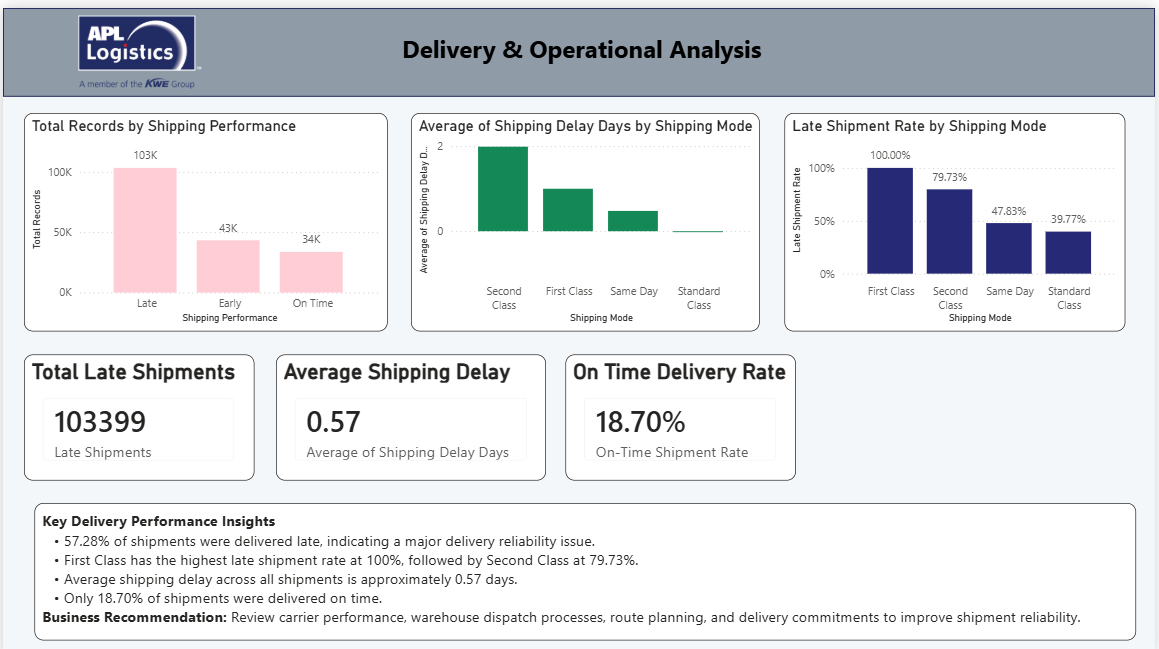

The dashboard page shown, as its layout file describes it:
{"tool":"powerbi","page":{"name":"Delievery & Operational Analysis","canvas":[1280,720],"ordinal":3},"visuals":[{"type":"shape","box":[0,0,1280,98.6],"z":0},{"type":"clusteredColumnChart","fields":{"Y":["SupplyChain.Total Records"],"Category":["SupplyChain.Shipping Performance"]},"box":[22.9,117.1,404.3,242.9],"z":1000},{"type":"clusteredColumnChart","fields":{"Category":["SupplyChain.Shipping Mode"],"Y":["Avg(SupplyChain.Shipping Delay Days)"]},"box":[452.9,117.1,387.1,242.9],"z":2000},{"type":"clusteredColumnChart","fields":{"Y":["Customer Profitability.Late Shipment Rate"],"Category":["SupplyChain.Shipping Mode"]},"box":[868.6,117.1,378.6,242.9],"z":3000},{"type":"cardVisual","title":"Total Late Shipments","fields":{"Data":["Customer Profitability.Late Shipments"]},"box":[22.9,385.7,255.7,140],"z":4000},{"type":"cardVisual","title":"Average Shipping Delay","fields":{"Data":["Avg(SupplyChain.Shipping Delay Days)"]},"box":[302.9,385.7,300,140],"z":5000},{"type":"cardVisual","title":"On Time Delivery Rate","fields":{"Data":["Customer Profitability.On-Time Shipment Rate"]},"box":[624.3,385.7,255.7,140],"z":6000},{"type":"textbox","box":[35.7,550,1224.3,152.9],"z":7000},{"type":"textbox","box":[401.4,21.4,491.4,55.7],"z":8000},{"type":"image","box":[64.3,8.6,174.3,81.4],"z":8001}]}

Visuals, with their boxes in screenshot pixels (x1, y1, x2, y2), scaled from the page's 1280x720 canvas onto the 1159x649 screenshot:
shape: l=0, t=0, r=1158, b=89
clusteredColumnChart - SupplyChain.Total Records x SupplyChain.Shipping Performance: l=21, t=106, r=387, b=324
clusteredColumnChart - SupplyChain.Shipping Mode x Avg(SupplyChain.Shipping Delay Days): l=410, t=106, r=761, b=324
clusteredColumnChart - Customer Profitability.Late Shipment Rate x SupplyChain.Shipping Mode: l=786, t=106, r=1129, b=324
"Total Late Shipments" cardVisual: l=21, t=348, r=252, b=474
"Average Shipping Delay" cardVisual: l=274, t=348, r=546, b=474
"On Time Delivery Rate" cardVisual: l=565, t=348, r=797, b=474
textbox: l=32, t=496, r=1141, b=634
textbox: l=363, t=19, r=808, b=69
image: l=58, t=8, r=216, b=81
